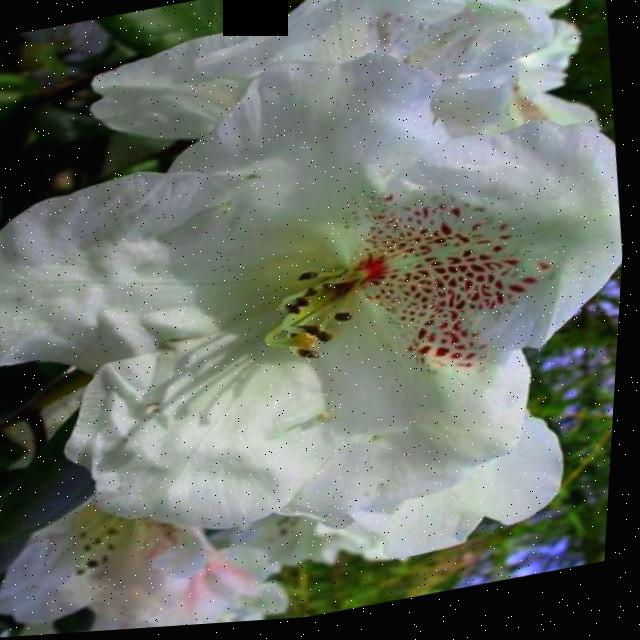azalea: (0, 0, 640, 606)
